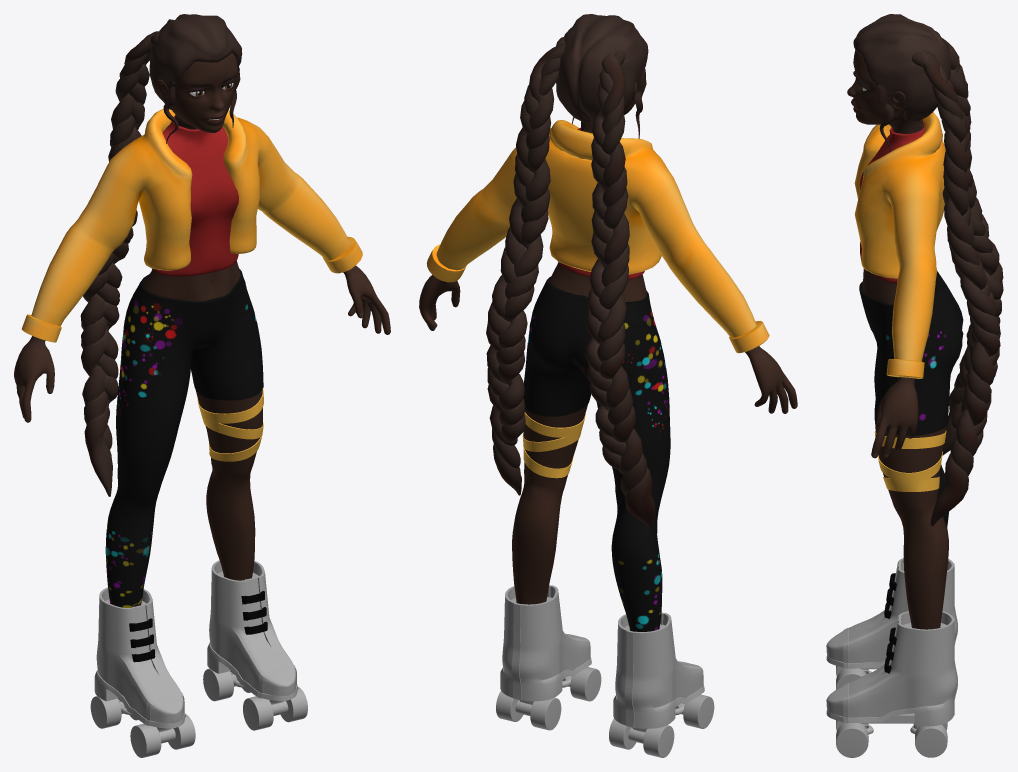
File: AriadnaTemp.fbx
The picture shows the model from 3 angles, left to right: view 1: azimuth 30°, elevation 25°; view 2: azimuth 150°, elevation 25°; view 3: azimuth 270°, elevation 25°; orthographic projection.
Parts seen in each view (by area): view 1: lowerBody_mesh, jacket_mesh, body_low (×2), Hair, undershirt_mesh, BG4_low (×2), hairBraidTop_mesh, face_mesh, hands_mesh, legLace_mesh, BG2_low; view 2: Hair, lowerBody_mesh, jacket_mesh, body_low (×2), hairBraidTop_mesh, BG4_low (×2), hands_mesh, legLace_mesh; view 3: Hair, jacket_mesh, lowerBody_mesh, body_low (×2), hairBraidTop_mesh, hands_mesh, BG4_low (×2), face_mesh, legLace_mesh, undershirt_mesh, BG3_low.
Part boxes in pixels (x1=…): lowerBody_mesh: x1=105, y1=261, x2=263, y2=607; jacket_mesh: x1=21, y1=108, x2=362, y2=342; body_low (×2): x1=94, y1=560, x2=298, y2=728; Hair: x1=80, y1=31, x2=240, y2=496; undershirt_mesh: x1=152, y1=116, x2=238, y2=276; BG4_low (×2): x1=90, y1=668, x2=307, y2=757; hairBraidTop_mesh: x1=149, y1=14, x2=242, y2=109; face_mesh: x1=155, y1=53, x2=237, y2=132; hands_mesh: x1=14, y1=265, x2=390, y2=422; legLace_mesh: x1=197, y1=388, x2=263, y2=461; BG2_low: x1=241, y1=591, x2=267, y2=634; Hair: x1=486, y1=37, x2=655, y2=528; lowerBody_mesh: x1=512, y1=262, x2=670, y2=631; jacket_mesh: x1=426, y1=120, x2=769, y2=353; body_low (×2): x1=500, y1=585, x2=704, y2=728; hairBraidTop_mesh: x1=556, y1=14, x2=648, y2=124; BG4_low (×2): x1=496, y1=667, x2=714, y2=757; hands_mesh: x1=419, y1=275, x2=797, y2=413; legLace_mesh: x1=522, y1=412, x2=585, y2=478; Hair: x1=875, y1=31, x2=1003, y2=526; jacket_mesh: x1=854, y1=112, x2=945, y2=378; lowerBody_mesh: x1=859, y1=268, x2=963, y2=629; body_low (×2): x1=826, y1=558, x2=957, y2=726; hairBraidTop_mesh: x1=853, y1=14, x2=950, y2=121; hands_mesh: x1=871, y1=377, x2=918, y2=458; BG4_low (×2): x1=836, y1=665, x2=947, y2=757; face_mesh: x1=847, y1=50, x2=924, y2=133; legLace_mesh: x1=874, y1=430, x2=946, y2=491; undershirt_mesh: x1=859, y1=121, x2=925, y2=282; BG3_low: x1=860, y1=713, x2=916, y2=734.
Bounding box in the file's own units: 101 × 185 × 42.71.
